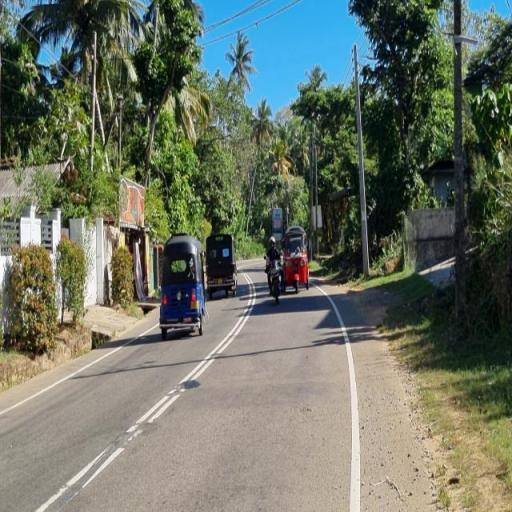double_white_line: (126, 272, 258, 438)
